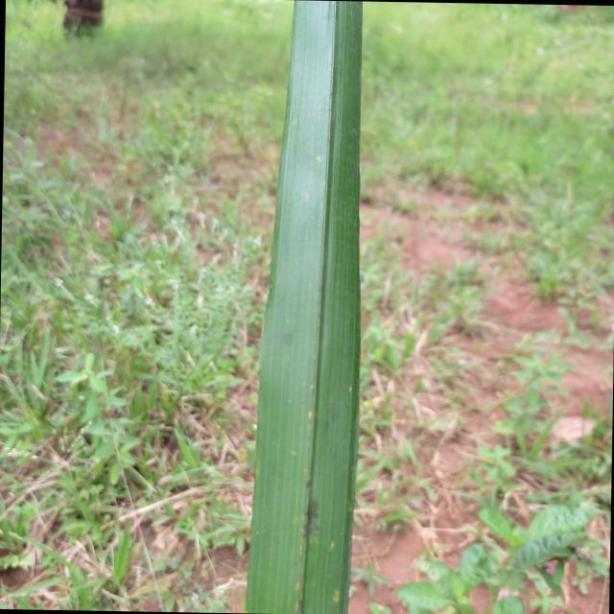Kalium: (248, 0, 369, 614)
